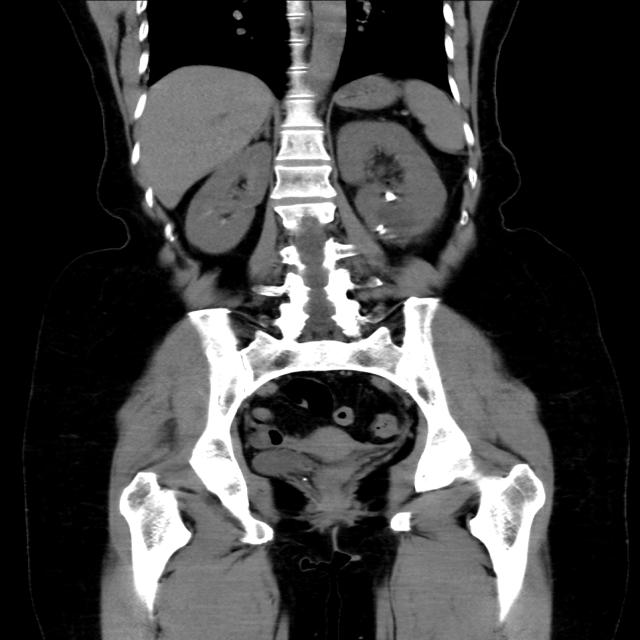kidneystone: (374, 224, 387, 235), (385, 191, 398, 202)
